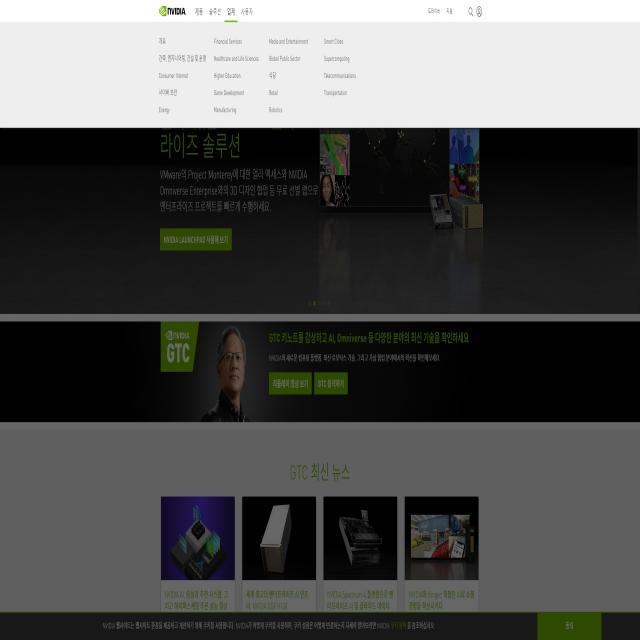menu-bar: (425, 1, 489, 20)
menu-panel: (154, 24, 360, 127)
tab-bar: (190, 2, 256, 19)
